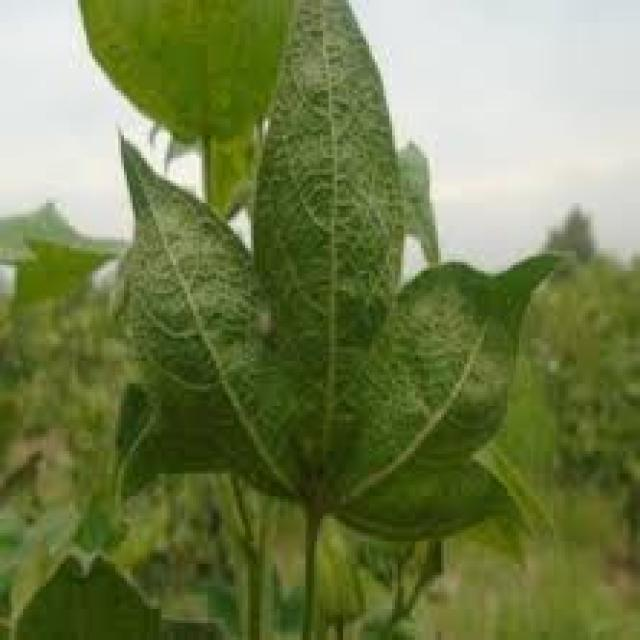Leaf Curl Virus: (185, 132, 450, 451)
